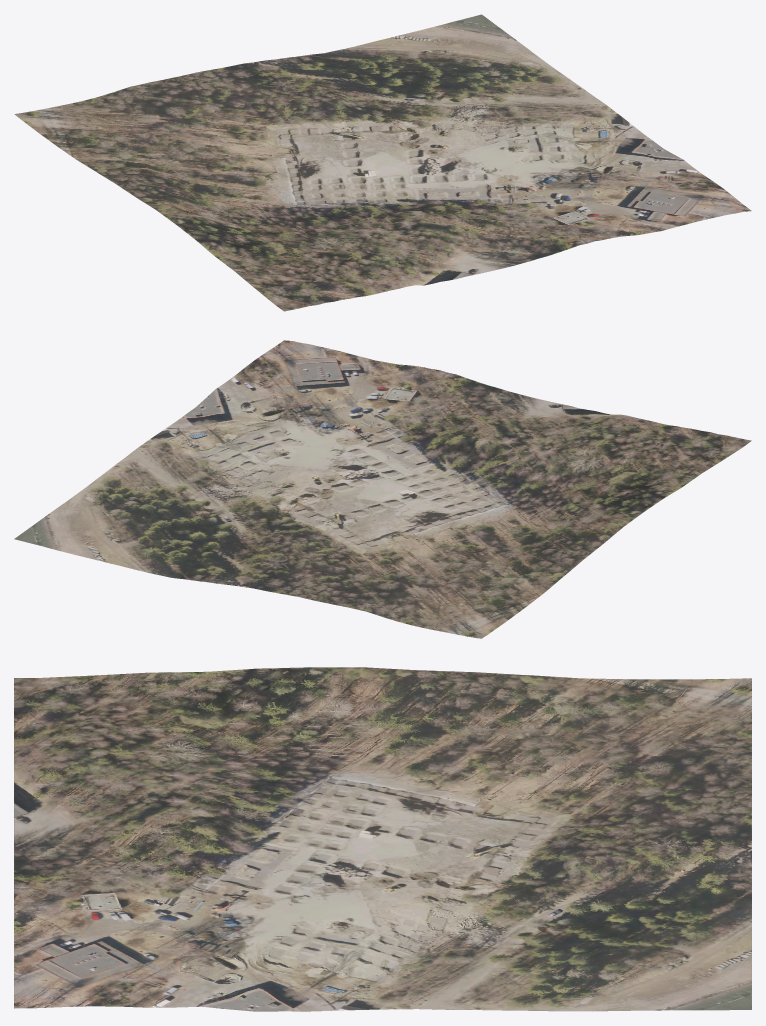
Rendered from CM_Terrain_24489639_6822046.fbx.
The picture shows the model from 3 angles, top to bottom: view 1: azimuth 30°, elevation 25°; view 2: azimuth 150°, elevation 25°; view 3: azimuth 270°, elevation 25°; orthographic projection. The views are drawn at different scales.
Parts seen in each view (by area): view 1: CM_Terrain_24489639_6822046_LOD0; view 2: CM_Terrain_24489639_6822046_LOD0; view 3: CM_Terrain_24489639_6822046_LOD0.
Part boxes in pixels (x1=…): CM_Terrain_24489639_6822046_LOD0: x1=14, y1=14, x2=751, y2=311; CM_Terrain_24489639_6822046_LOD0: x1=14, y1=340, x2=751, y2=638; CM_Terrain_24489639_6822046_LOD0: x1=14, y1=667, x2=751, y2=1011.
Size of what is drawn, in the model's own units: 205 by 10.53 by 205.
